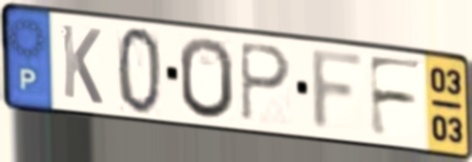0: (115, 25, 163, 117)
F: (365, 53, 427, 141), (308, 46, 368, 135)
K: (58, 20, 105, 108)
O: (176, 35, 237, 122)
P: (236, 39, 294, 124)
